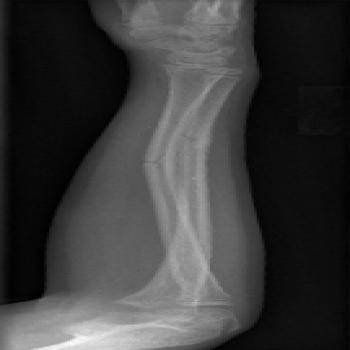Fracture: (168, 127, 219, 149), (128, 156, 170, 169)
